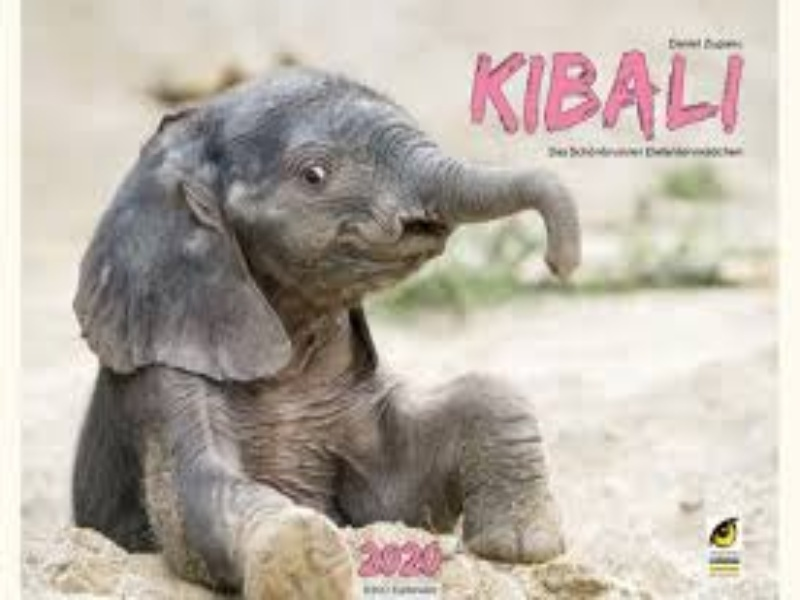elephant: (90, 67, 631, 600)
